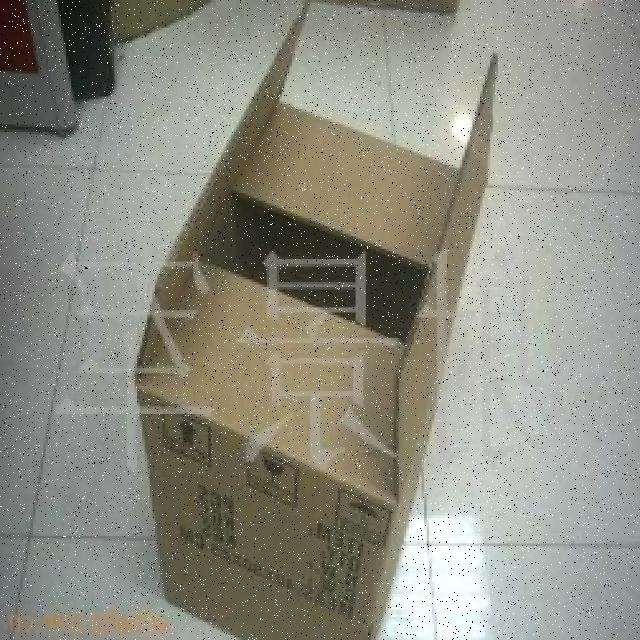box: (117, 76, 508, 640)
